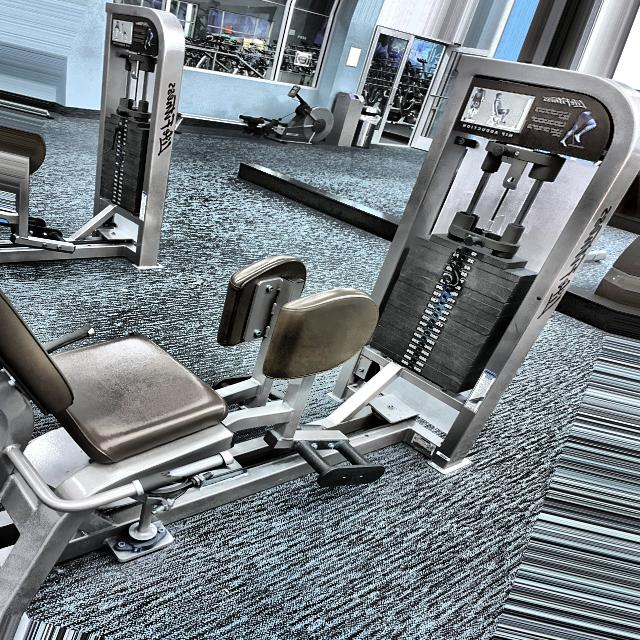hip_adduction_machine: (163, 250, 404, 499), (458, 72, 612, 155), (452, 121, 519, 138)
